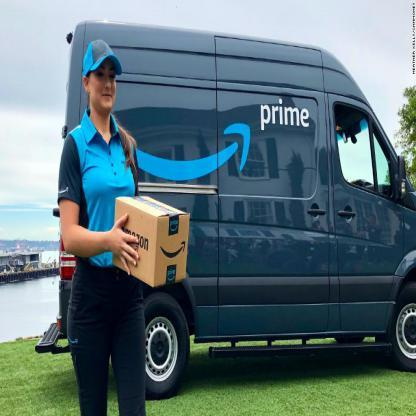package: (109, 190, 194, 295)
